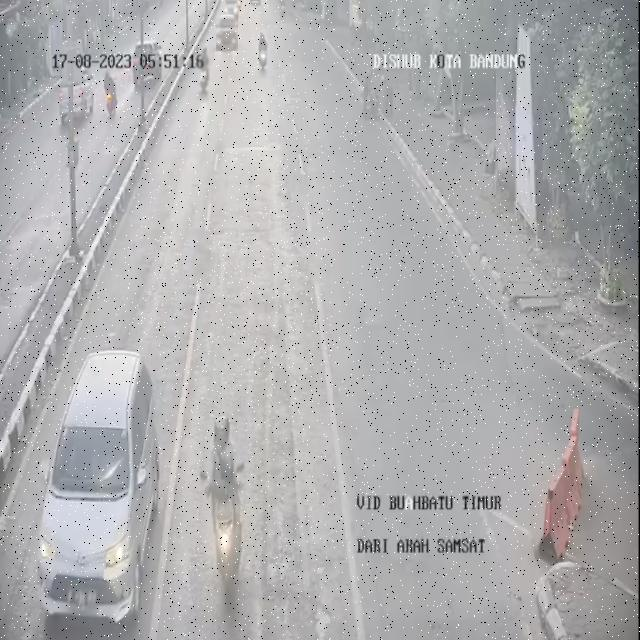cars: (34, 348, 164, 632), (216, 16, 238, 51)
motorcycle: (200, 414, 242, 614), (194, 46, 213, 100), (256, 24, 274, 78), (276, 0, 290, 23)
